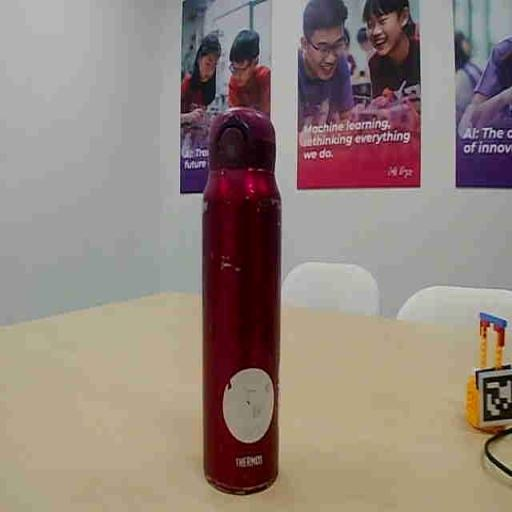bottle: (203, 108, 281, 493)
